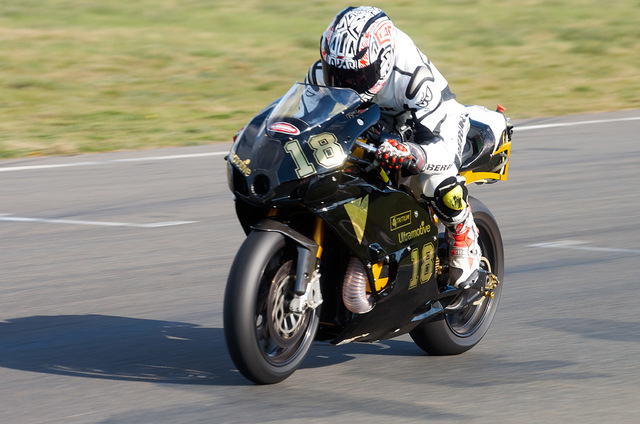helmet: (314, 9, 398, 100)
